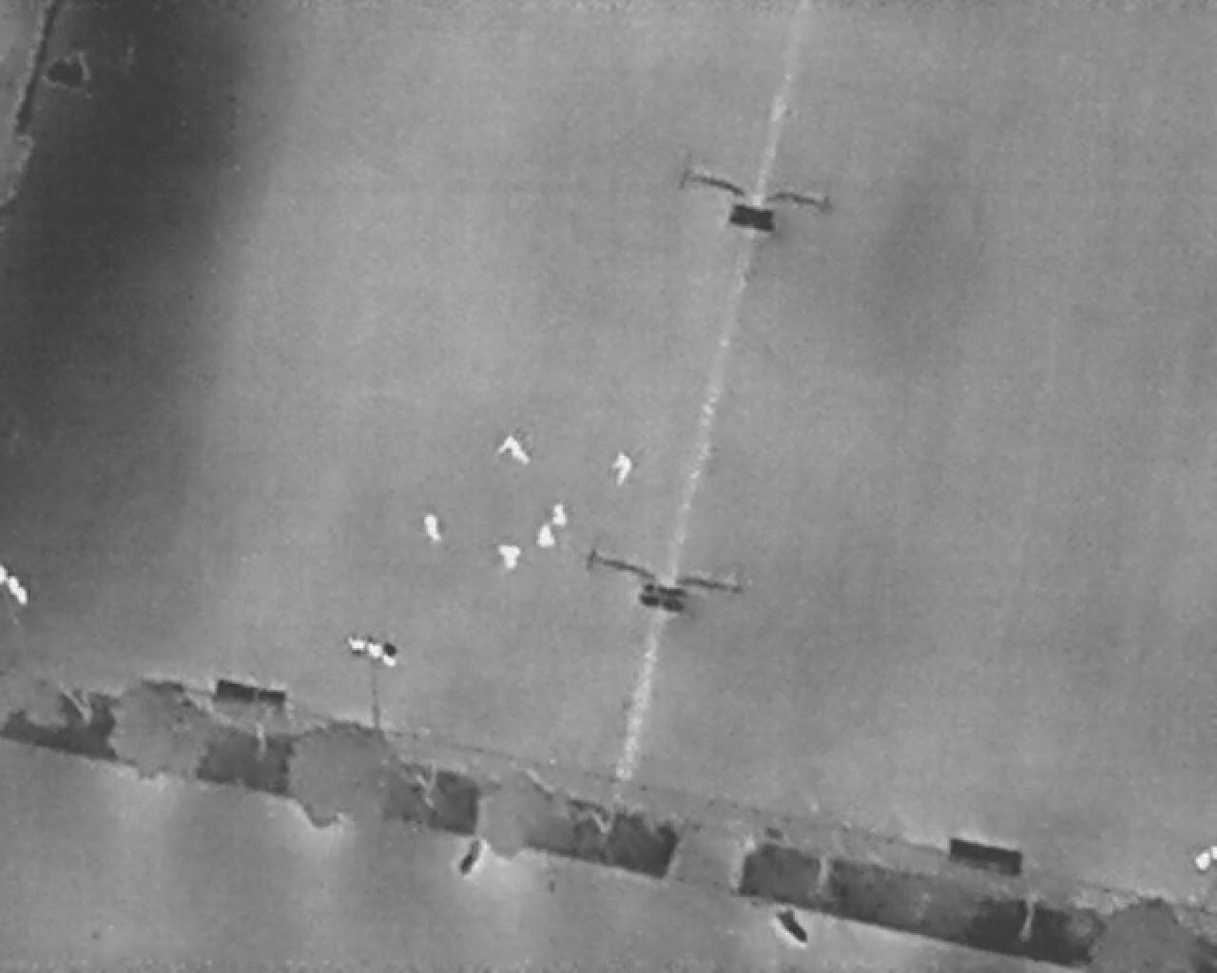person: (499, 436, 530, 465), (613, 453, 634, 486), (423, 514, 444, 543), (501, 544, 522, 573), (537, 525, 558, 550), (552, 503, 570, 525)
